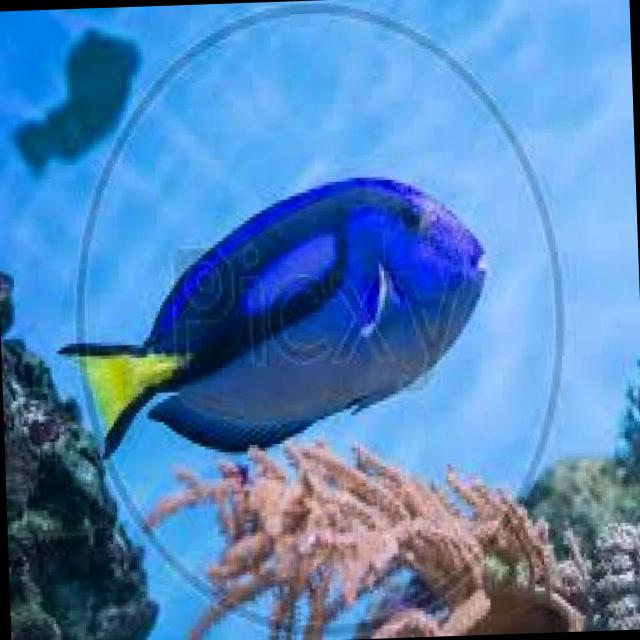TangFish: (57, 170, 493, 457)
